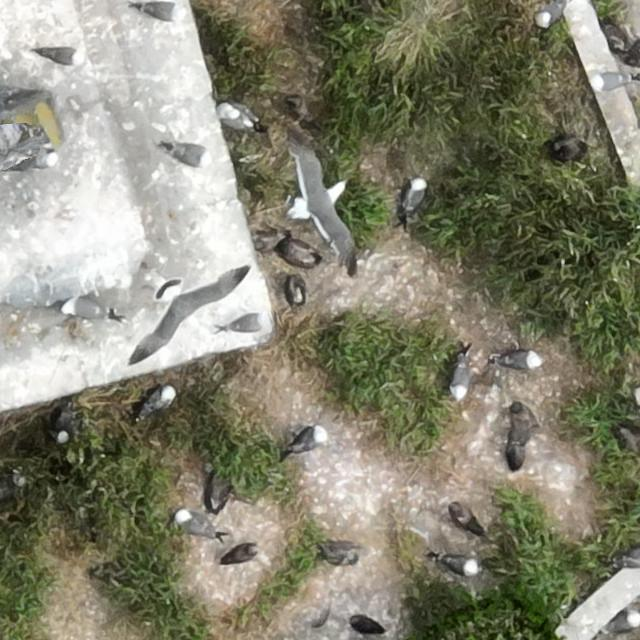F: (130, 271, 242, 362), (299, 170, 347, 244)
umineko: (15, 148, 61, 176), (217, 102, 261, 130), (167, 142, 213, 168), (224, 312, 272, 334), (40, 45, 86, 67), (64, 299, 110, 319), (178, 513, 216, 535), (146, 387, 175, 412), (502, 352, 542, 370), (442, 554, 478, 573), (405, 179, 426, 211), (606, 613, 638, 632), (540, 1, 565, 25), (452, 362, 469, 396), (55, 411, 72, 441), (298, 428, 323, 448), (597, 73, 628, 89)
